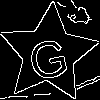G: (23, 28, 71, 82)
